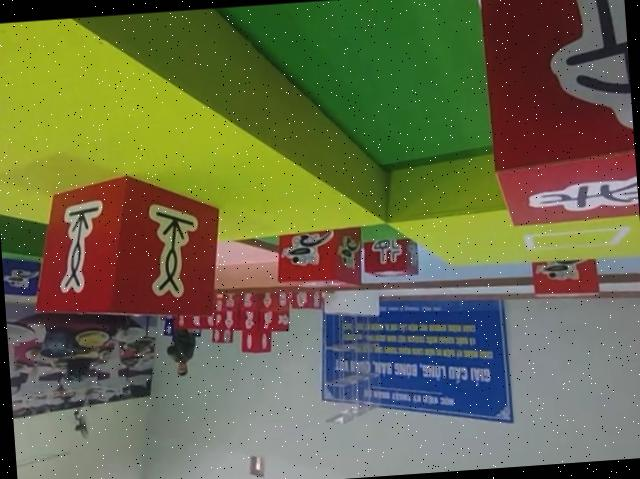R1: (270, 216, 365, 293), (527, 249, 602, 302)
R2 Real: (23, 163, 228, 331), (359, 228, 422, 280)
